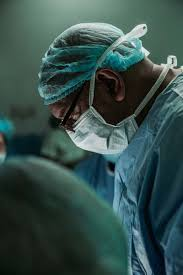masked: (36, 24, 160, 156)
